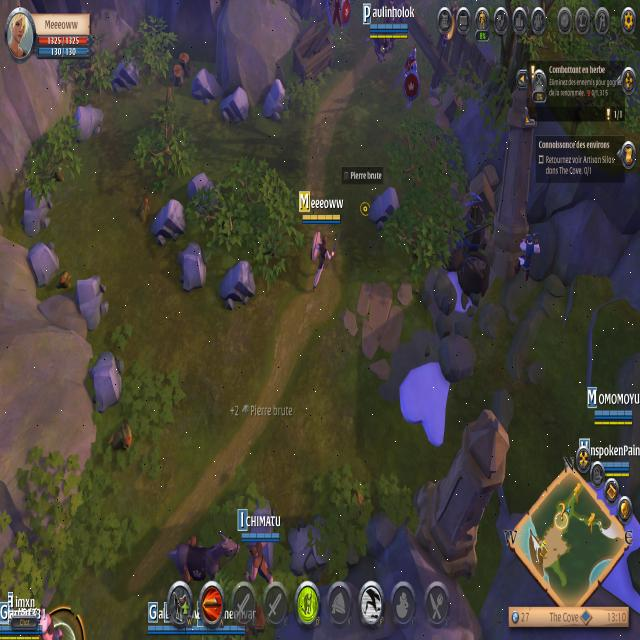stone: (89, 348, 124, 416), (217, 253, 258, 311), (73, 274, 109, 334), (19, 179, 55, 237), (150, 197, 188, 250), (24, 236, 59, 291), (367, 181, 402, 235), (177, 232, 207, 294), (73, 92, 104, 144), (261, 73, 291, 124), (219, 82, 251, 129), (109, 54, 141, 98), (190, 61, 220, 106), (187, 167, 216, 209)
